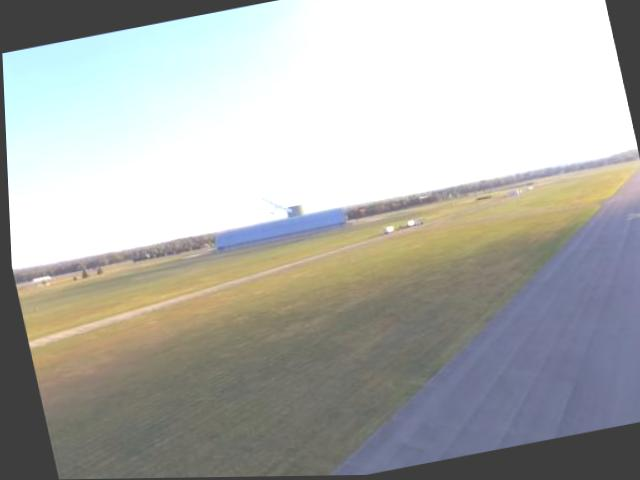uav: (257, 190, 291, 219)
